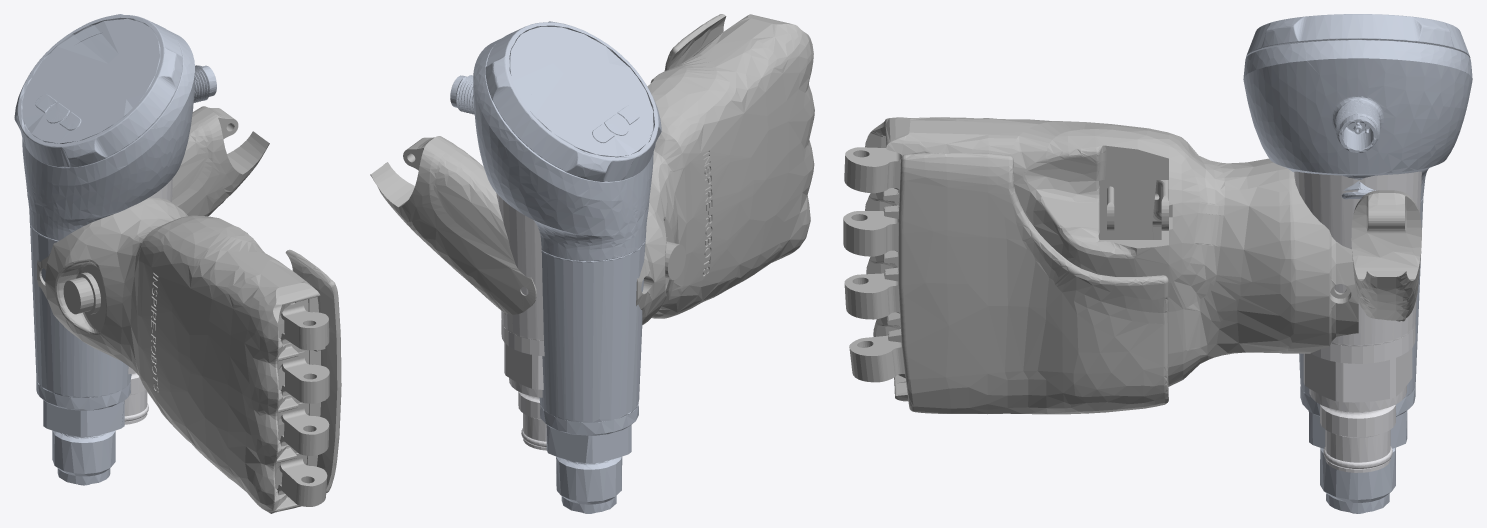
Rendered from twin_right.glb.
3 views of the same model, side by side, from view 1: azimuth 30°, elevation 25°; view 2: azimuth 150°, elevation 25°; view 3: azimuth 270°, elevation 25° (orthographic). The views are drawn at different scales.
Visible parts, largest first — view 1: right_hand_root, vegabar_38, right_thumb_proximal, vegabar_29; view 2: vegabar_38, right_hand_root, right_thumb_proximal, vegabar_29; view 3: right_hand_root, vegabar_38, vegabar_29, right_thumb_proximal.
Boxes of the visible parts, x1,y1,x2,y2 form: right_hand_root: [37, 197, 341, 513]; vegabar_38: [14, 14, 216, 485]; right_thumb_proximal: [172, 106, 269, 216]; vegabar_29: [124, 178, 172, 424]; vegabar_38: [450, 21, 661, 513]; right_hand_root: [636, 14, 814, 324]; right_thumb_proximal: [370, 136, 536, 314]; vegabar_29: [496, 193, 546, 450]; right_hand_root: [843, 117, 1358, 414]; vegabar_38: [1243, 14, 1472, 513]; vegabar_29: [1294, 171, 1421, 472]; right_thumb_proximal: [1351, 190, 1421, 320].
Size of the model in its own units: 0.0938 by 0.162 by 0.1728.
